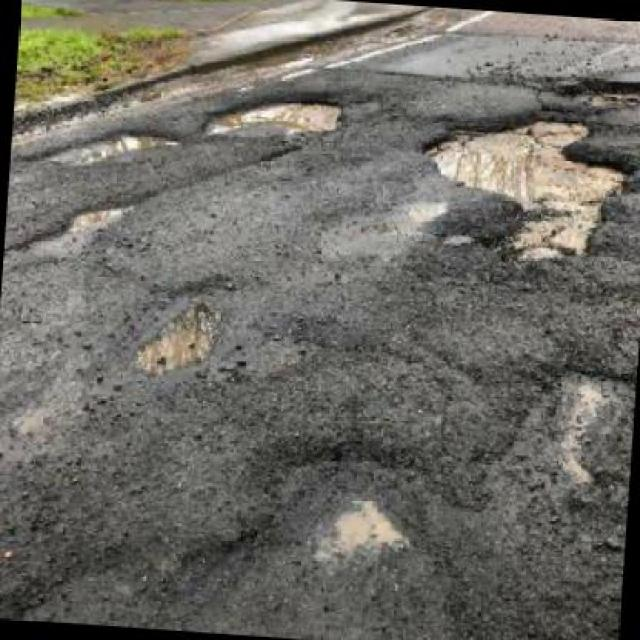pothole1: (406, 97, 639, 269), (537, 351, 634, 491), (202, 85, 347, 146), (130, 296, 224, 381), (46, 118, 182, 173), (554, 66, 638, 108)
